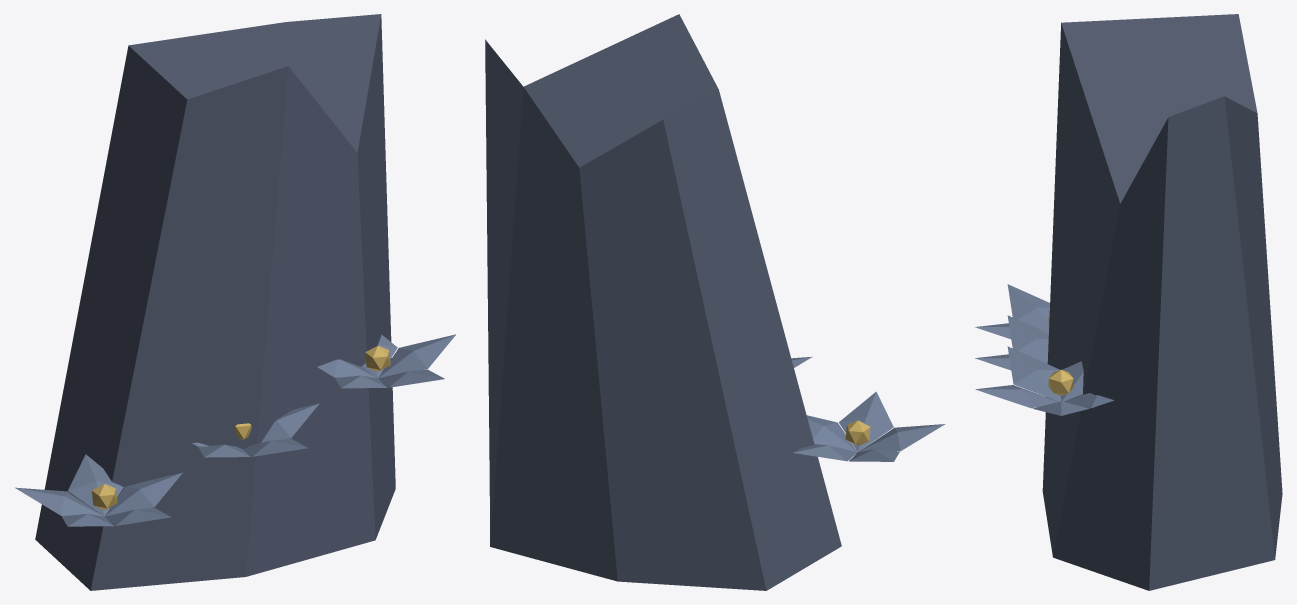
The model's file is map-boundaries-v5__grave_07.glb.
3 renders of one model, left to right at view 1: azimuth 30°, elevation 25°; view 2: azimuth 150°, elevation 25°; view 3: azimuth 270°, elevation 25°, orthographic. The views are drawn at different scales.
Visible parts, largest first — view 1: grave_07; view 2: grave_07; view 3: grave_07.
Part boxes in pixels (<box>): grave_07: <box>15,14,455,590</box>; grave_07: <box>485,14,945,590</box>; grave_07: <box>975,14,1282,590</box>.
Size of the model in its own units: 1.22 by 1.37 by 0.7766.
